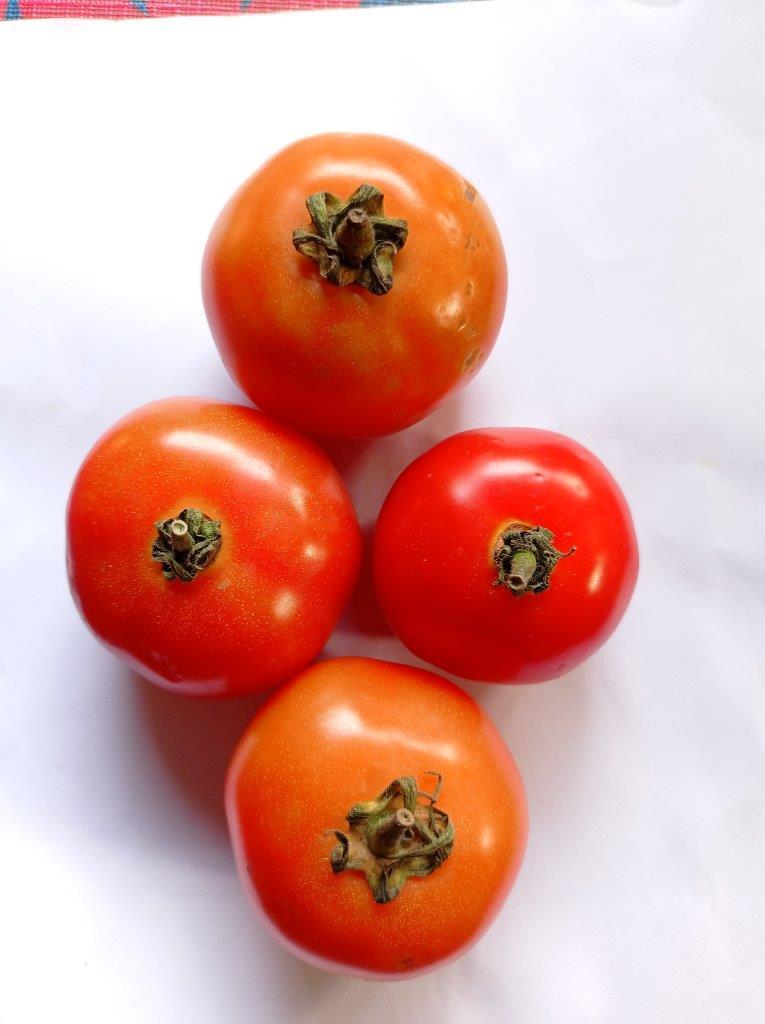tomato: (226, 658, 527, 977), (204, 135, 505, 433), (68, 399, 359, 696), (374, 429, 637, 681)
